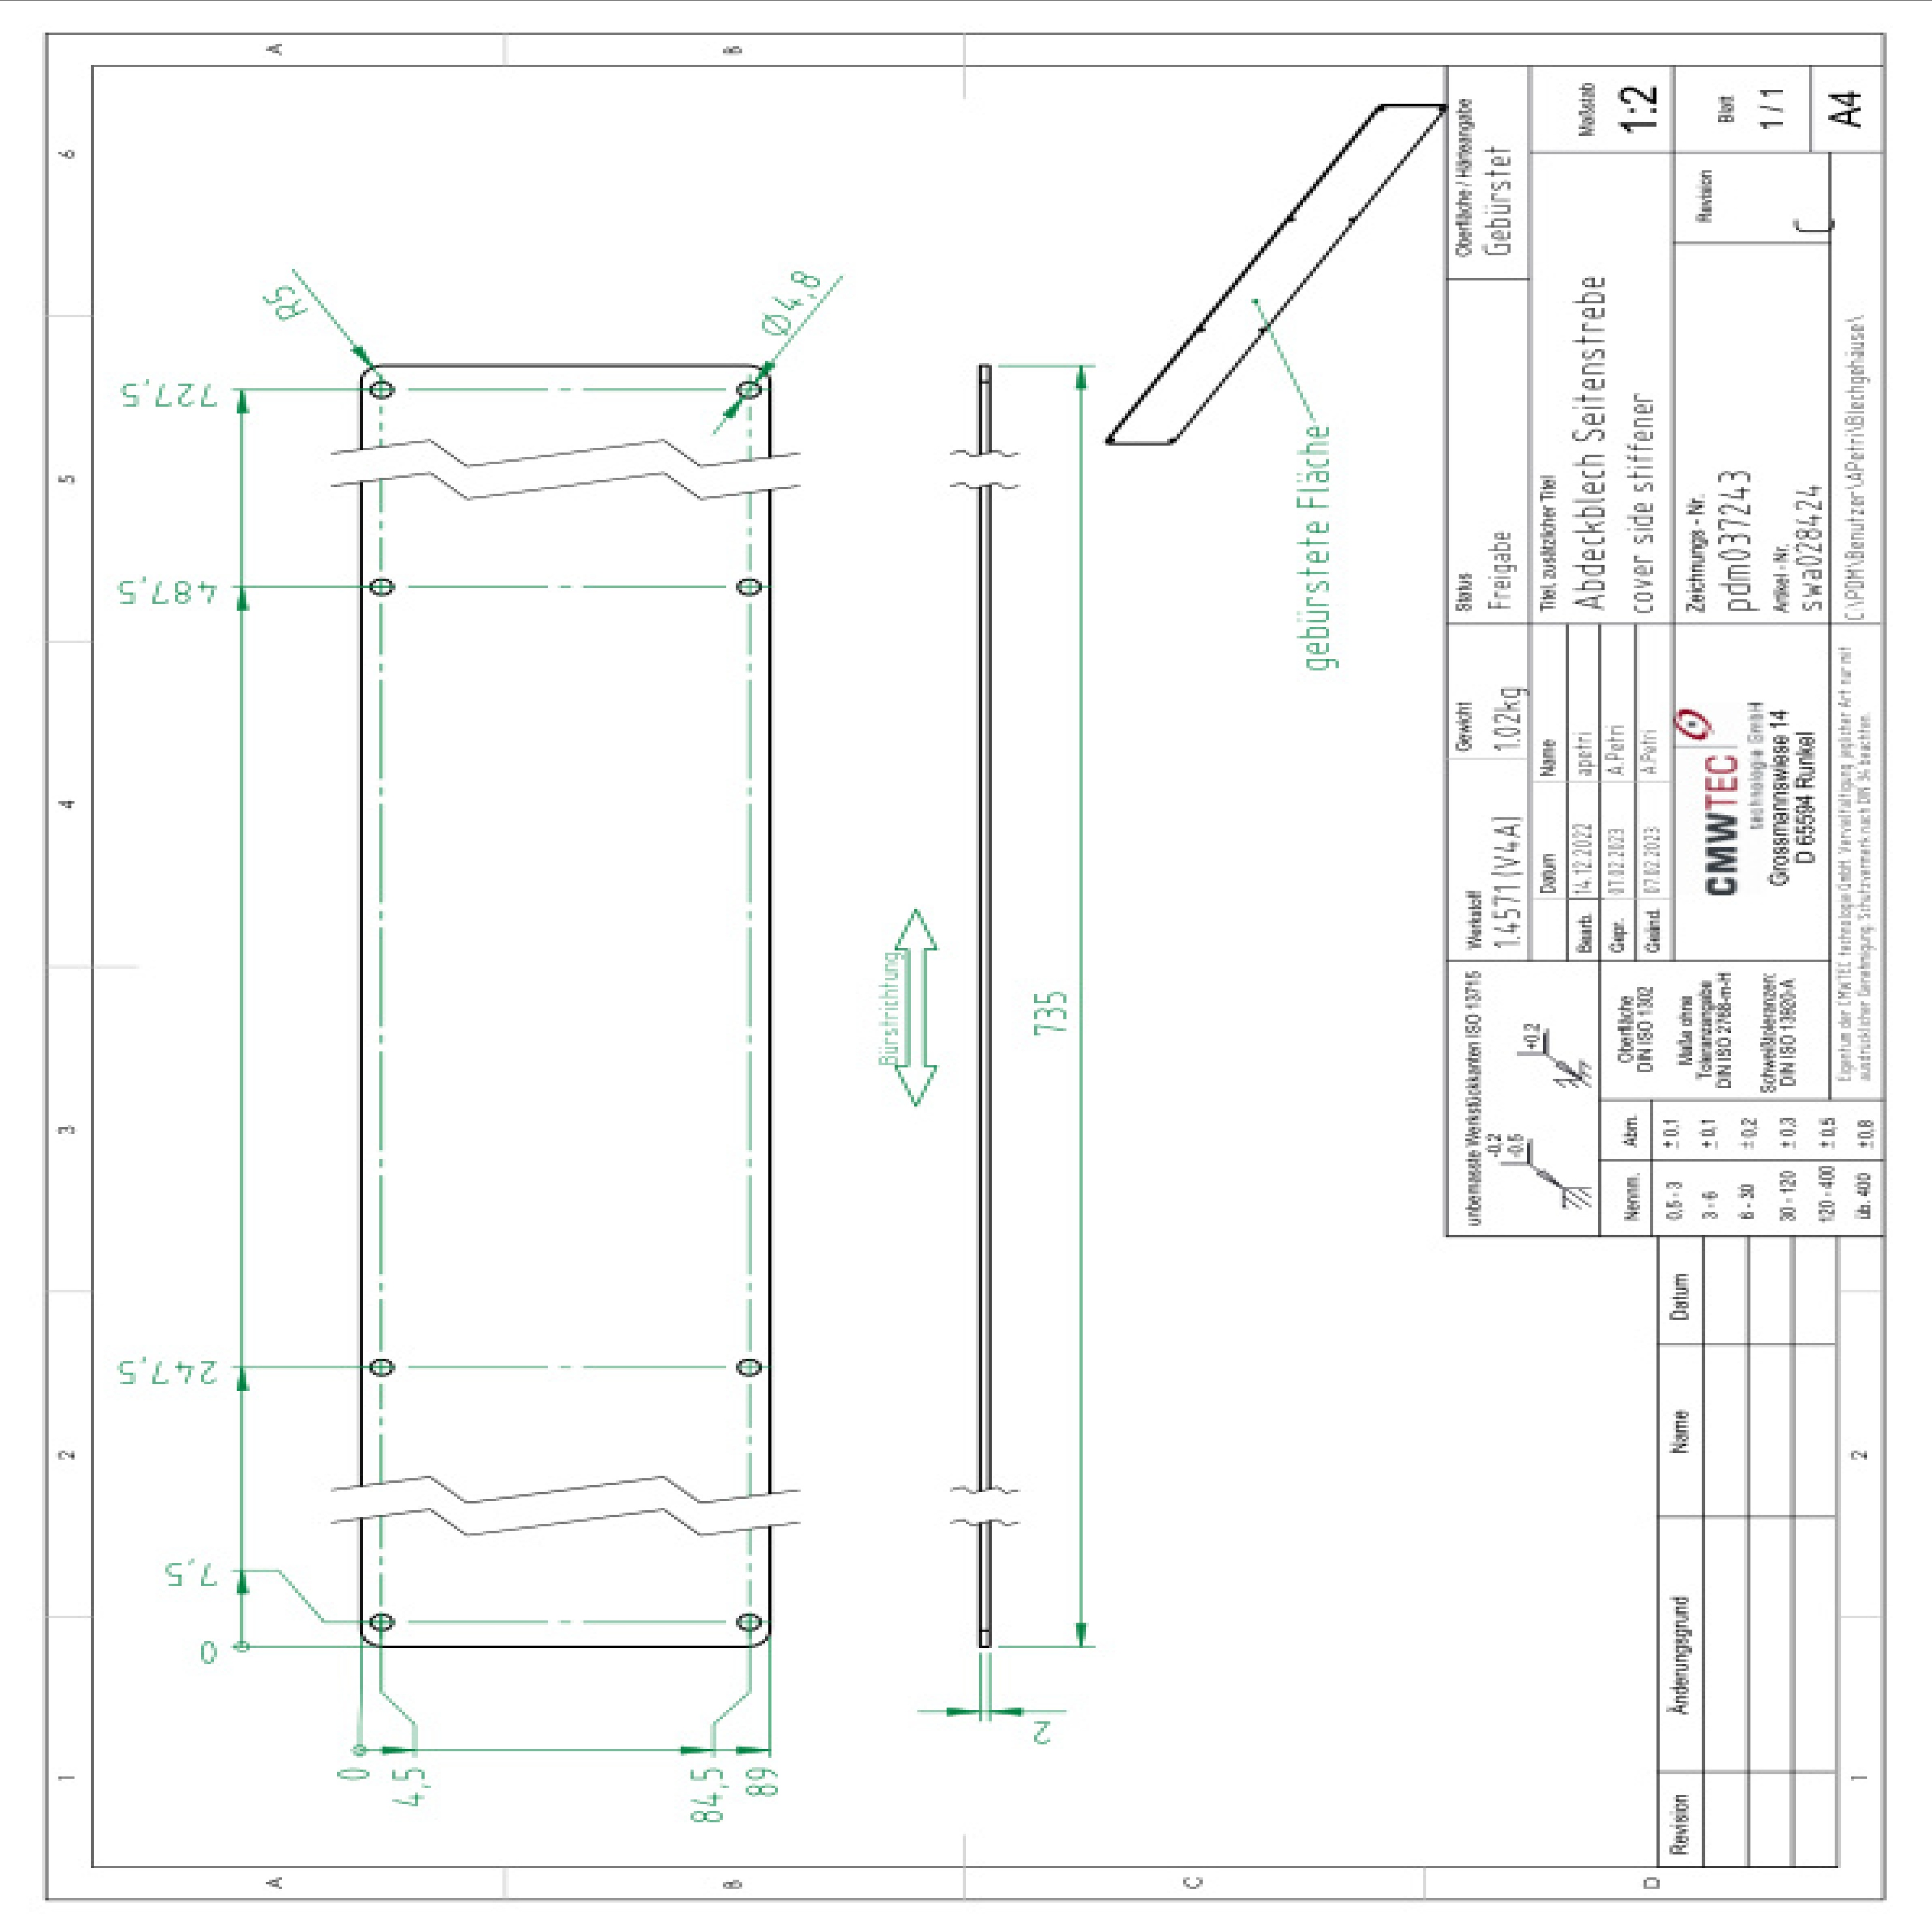InnerContour: (366, 1353, 398, 1380), (731, 375, 763, 402), (366, 375, 395, 403), (364, 573, 396, 596), (732, 575, 761, 598), (736, 1612, 761, 1637), (734, 1355, 761, 1378), (366, 1614, 395, 1635)
